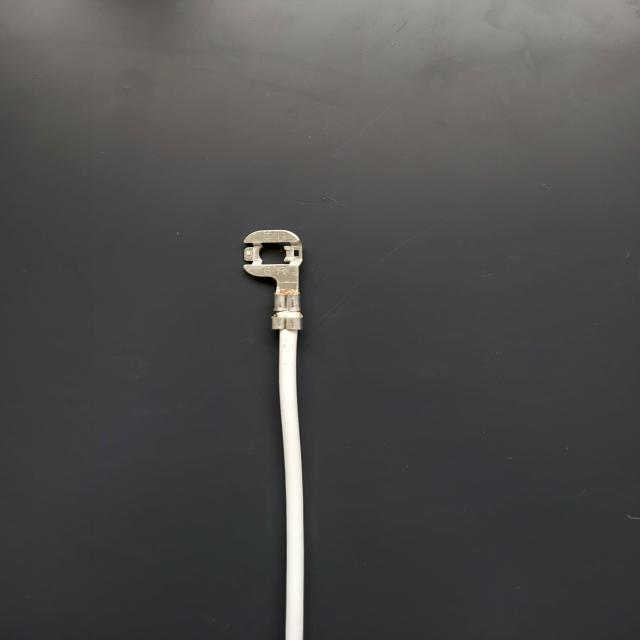good: (4, 5, 640, 638)
